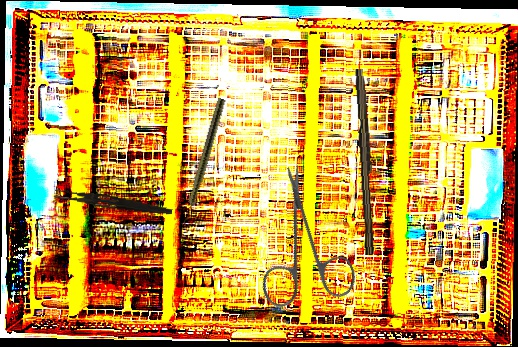Dressing Forceps: (53, 188, 174, 217)
Handpiece: (180, 97, 226, 227)
Iris Scissors: (216, 161, 392, 337)
Scalpel Handle: (352, 68, 380, 255)
